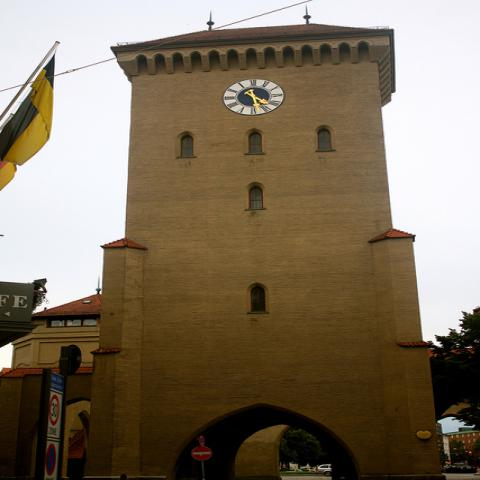car: (318, 464, 331, 471), (298, 468, 313, 472)
